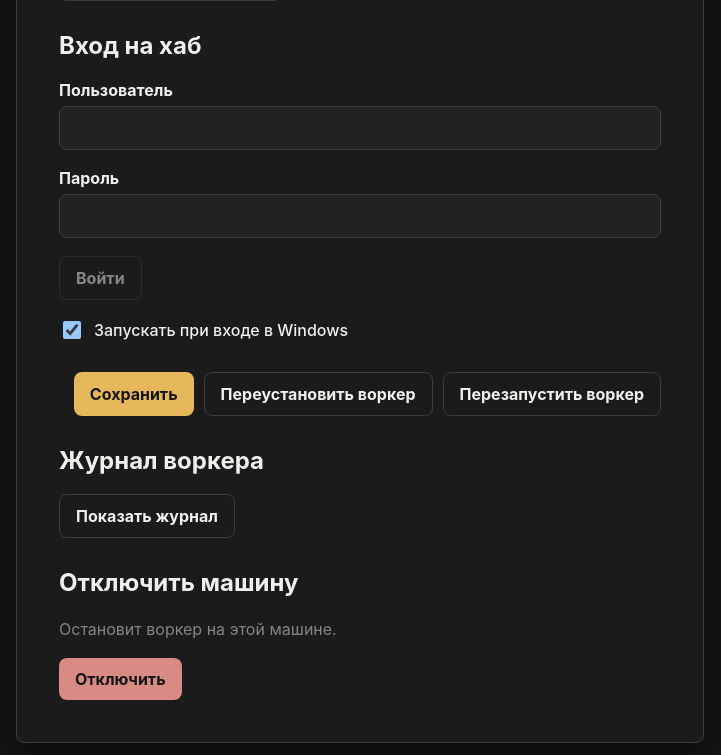
desktop wizard › keeps hub deletion behind a separate confirmation
The image size is (721, 755).
(page scrolled)
Click the button "Отключить".
click(120, 679)  # box left=59, top=658, right=182, bottom=700
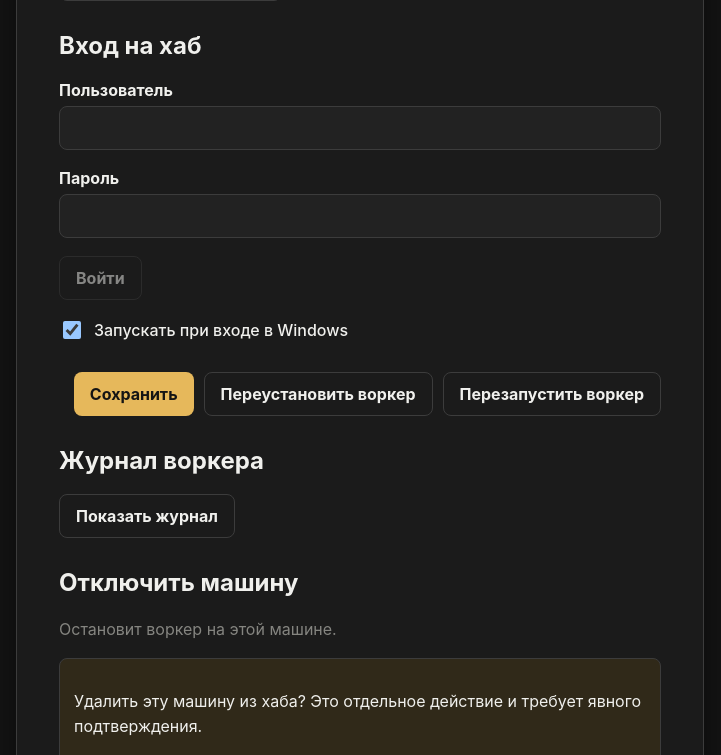
Expected: the text "Удалить эту машину" is shown, left=74, top=691, right=641, bottom=736
